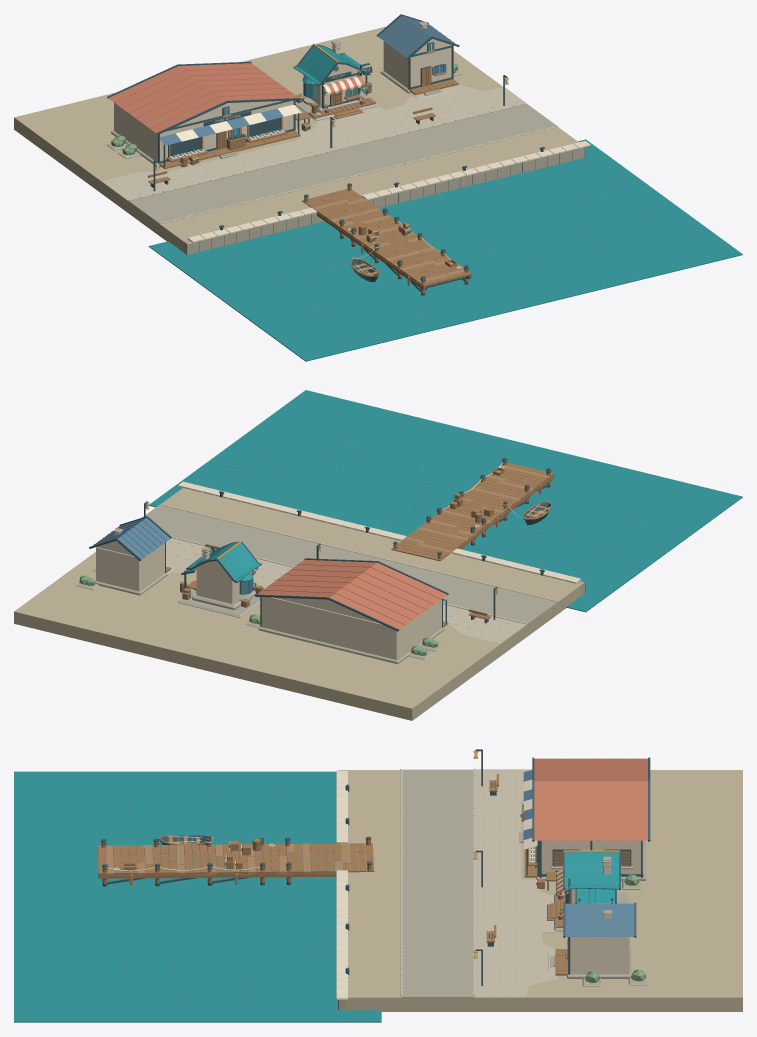
Rendered from Azure_Coast_Harbor_V4_Segmented.glb.
3 views of the same model, one above another, from view 1: azimuth 30°, elevation 25°; view 2: azimuth 150°, elevation 25°; view 3: azimuth 270°, elevation 25° (orthographic). The views are drawn at different scales.
Parts seen in each view (by area): view 1: Water, Ground, Fishmongers_Hall, Pier, Quay, Sailmakers_Cottage, Outfitters, Props; view 2: Ground, Water, Fishmongers_Hall, Pier, Sailmakers_Cottage, Outfitters, Quay, Props; view 3: Water, Ground, Fishmongers_Hall, Pier, Sailmakers_Cottage, Outfitters, Quay, Props, Boat.
Part boxes in pixels (box(x1,y1,x2,y2)): Water: box(148, 139, 742, 361); Ground: box(14, 26, 578, 252); Fishmongers_Hall: box(107, 61, 300, 168); Pier: box(219, 147, 544, 295); Quay: box(183, 141, 590, 254); Sailmakers_Cottage: box(376, 14, 459, 95); Outfitters: box(293, 40, 377, 120); Props: box(106, 63, 508, 243); Ground: box(14, 488, 583, 720); Water: box(149, 390, 742, 612); Fishmongers_Hall: box(254, 558, 448, 664); Pier: box(219, 457, 554, 575); Sailmakers_Cottage: box(89, 516, 171, 595); Outfitters: box(178, 540, 263, 617); Quay: box(178, 481, 585, 595); Props: box(76, 501, 499, 659); Water: box(14, 771, 381, 1022); Ground: box(341, 768, 742, 1011); Fishmongers_Hall: box(519, 757, 650, 880); Pier: box(97, 784, 374, 974); Sailmakers_Cottage: box(550, 902, 636, 978); Outfitters: box(547, 850, 628, 931); Quay: box(336, 770, 347, 1010); Props: box(229, 749, 646, 986); Boat: box(158, 835, 213, 846).
Size of the model in its own units: 45 by 6.79 by 55.5.
